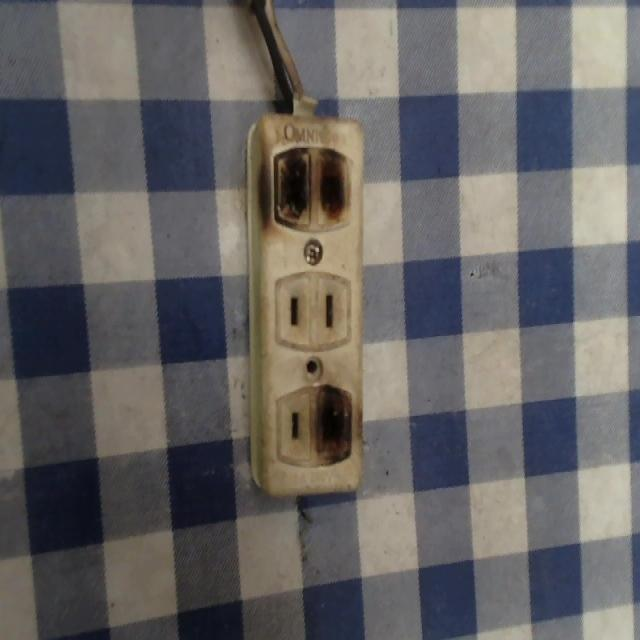-: (252, 132, 357, 239), (304, 379, 365, 481)
